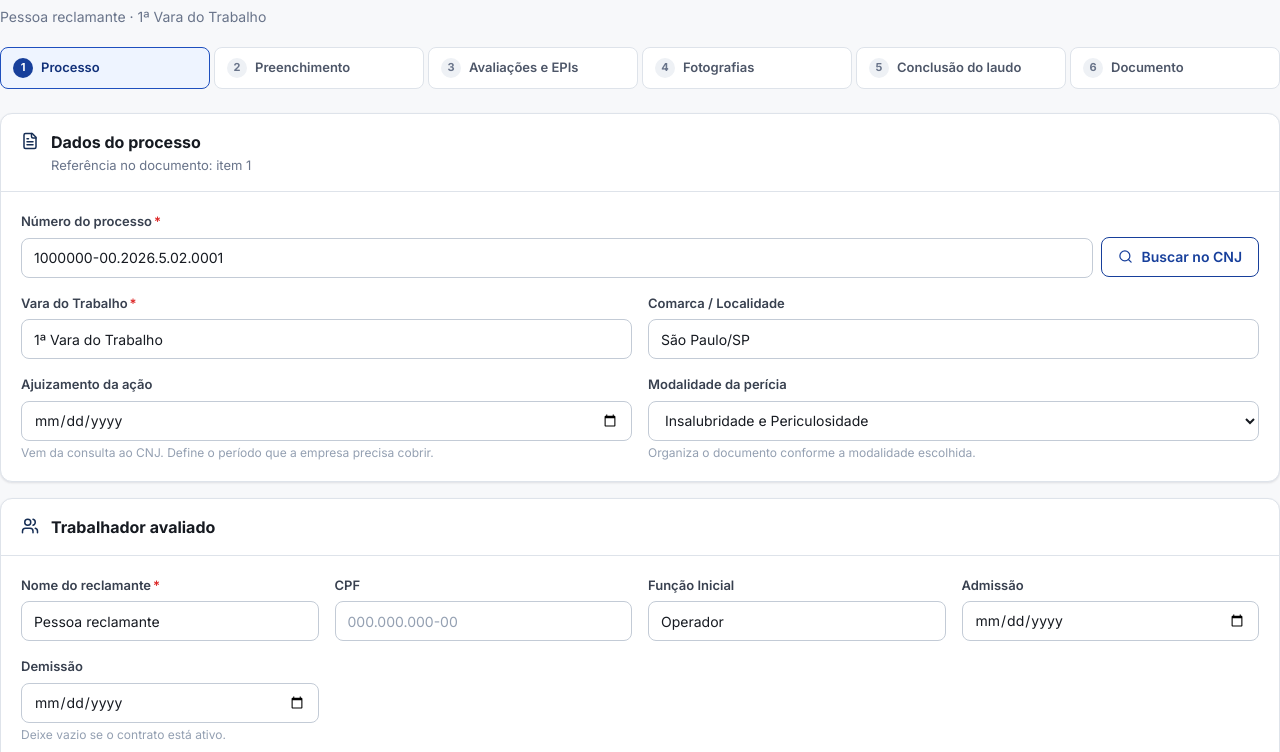
PericiaEditor — fotos das medições por agente (Laudo e Parecer) › no Laudo, cada avaliação ganha o bloco de evidências, com galeria e câmera do celular
Click the button "3 Avaliações e EPIs". click: (533, 68)
box: [428,46,638,88]
(page scrolled)
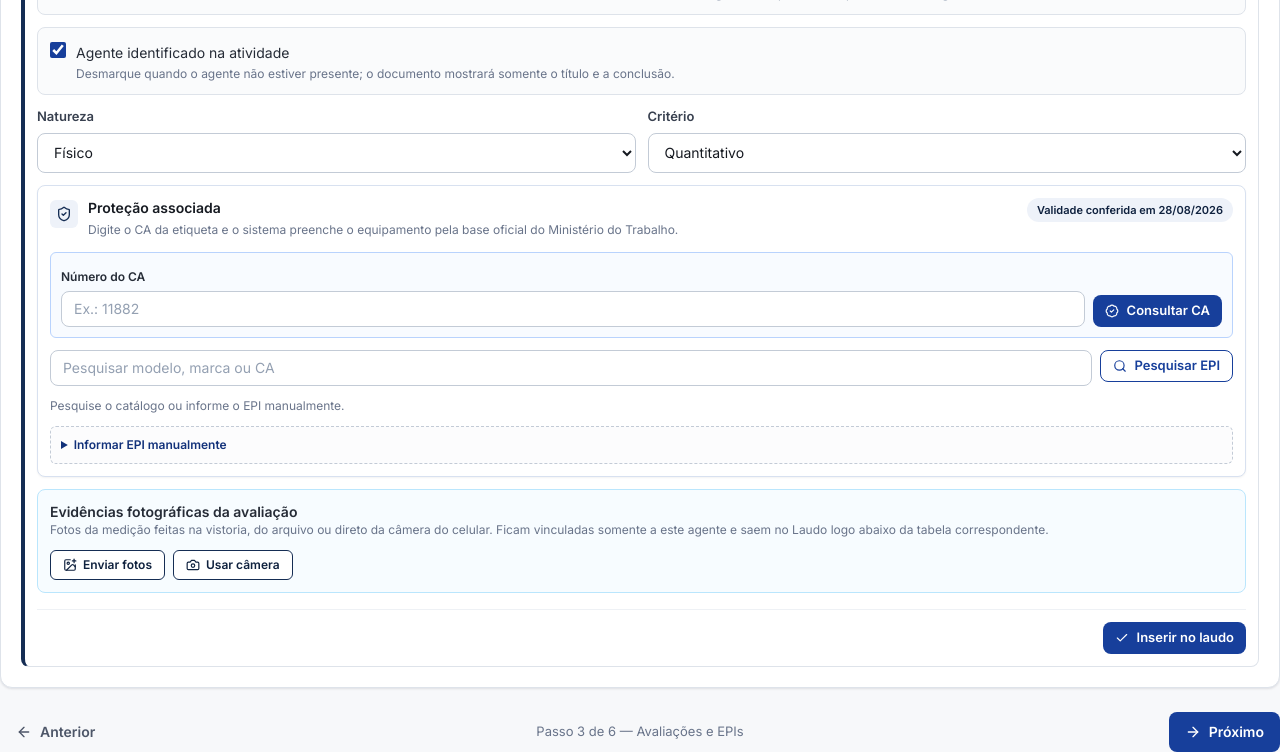
Check: the text "Evidências fotográficas da avaliação" is shown, box [50,502,297,520]
